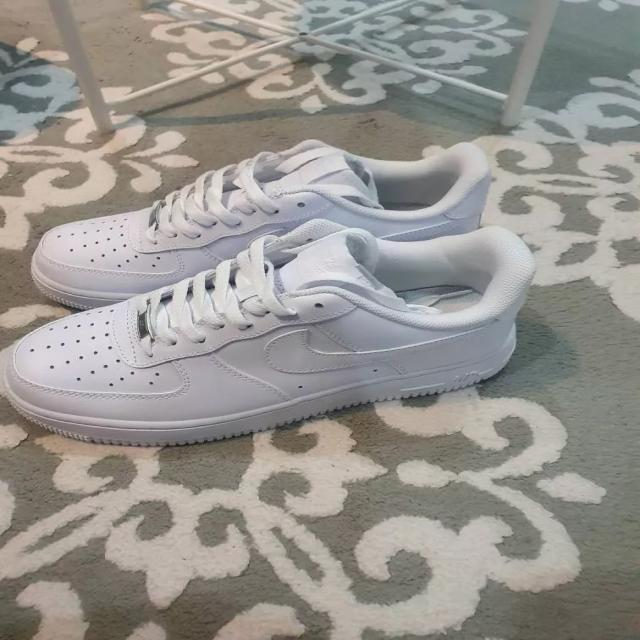nike original air force: (0, 218, 543, 451), (25, 134, 498, 304)
